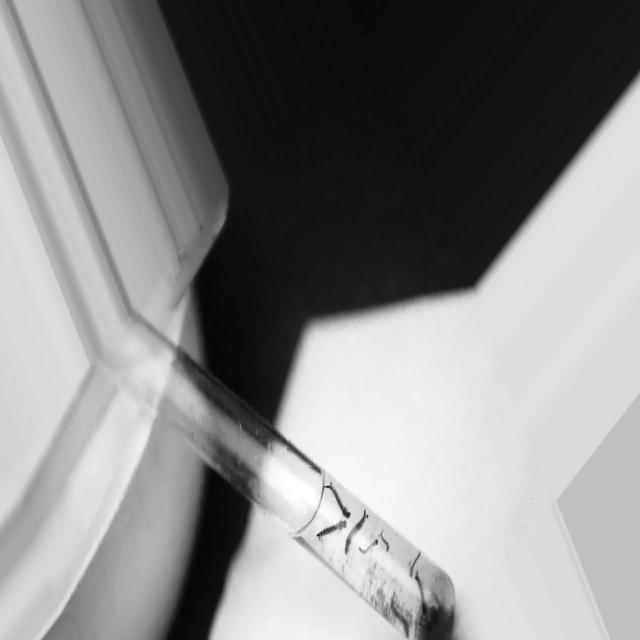larvas: (341, 506, 371, 556), (324, 479, 354, 524), (315, 514, 351, 542), (387, 598, 409, 636), (413, 578, 428, 612), (407, 548, 421, 575), (379, 531, 392, 554), (357, 540, 378, 553)
